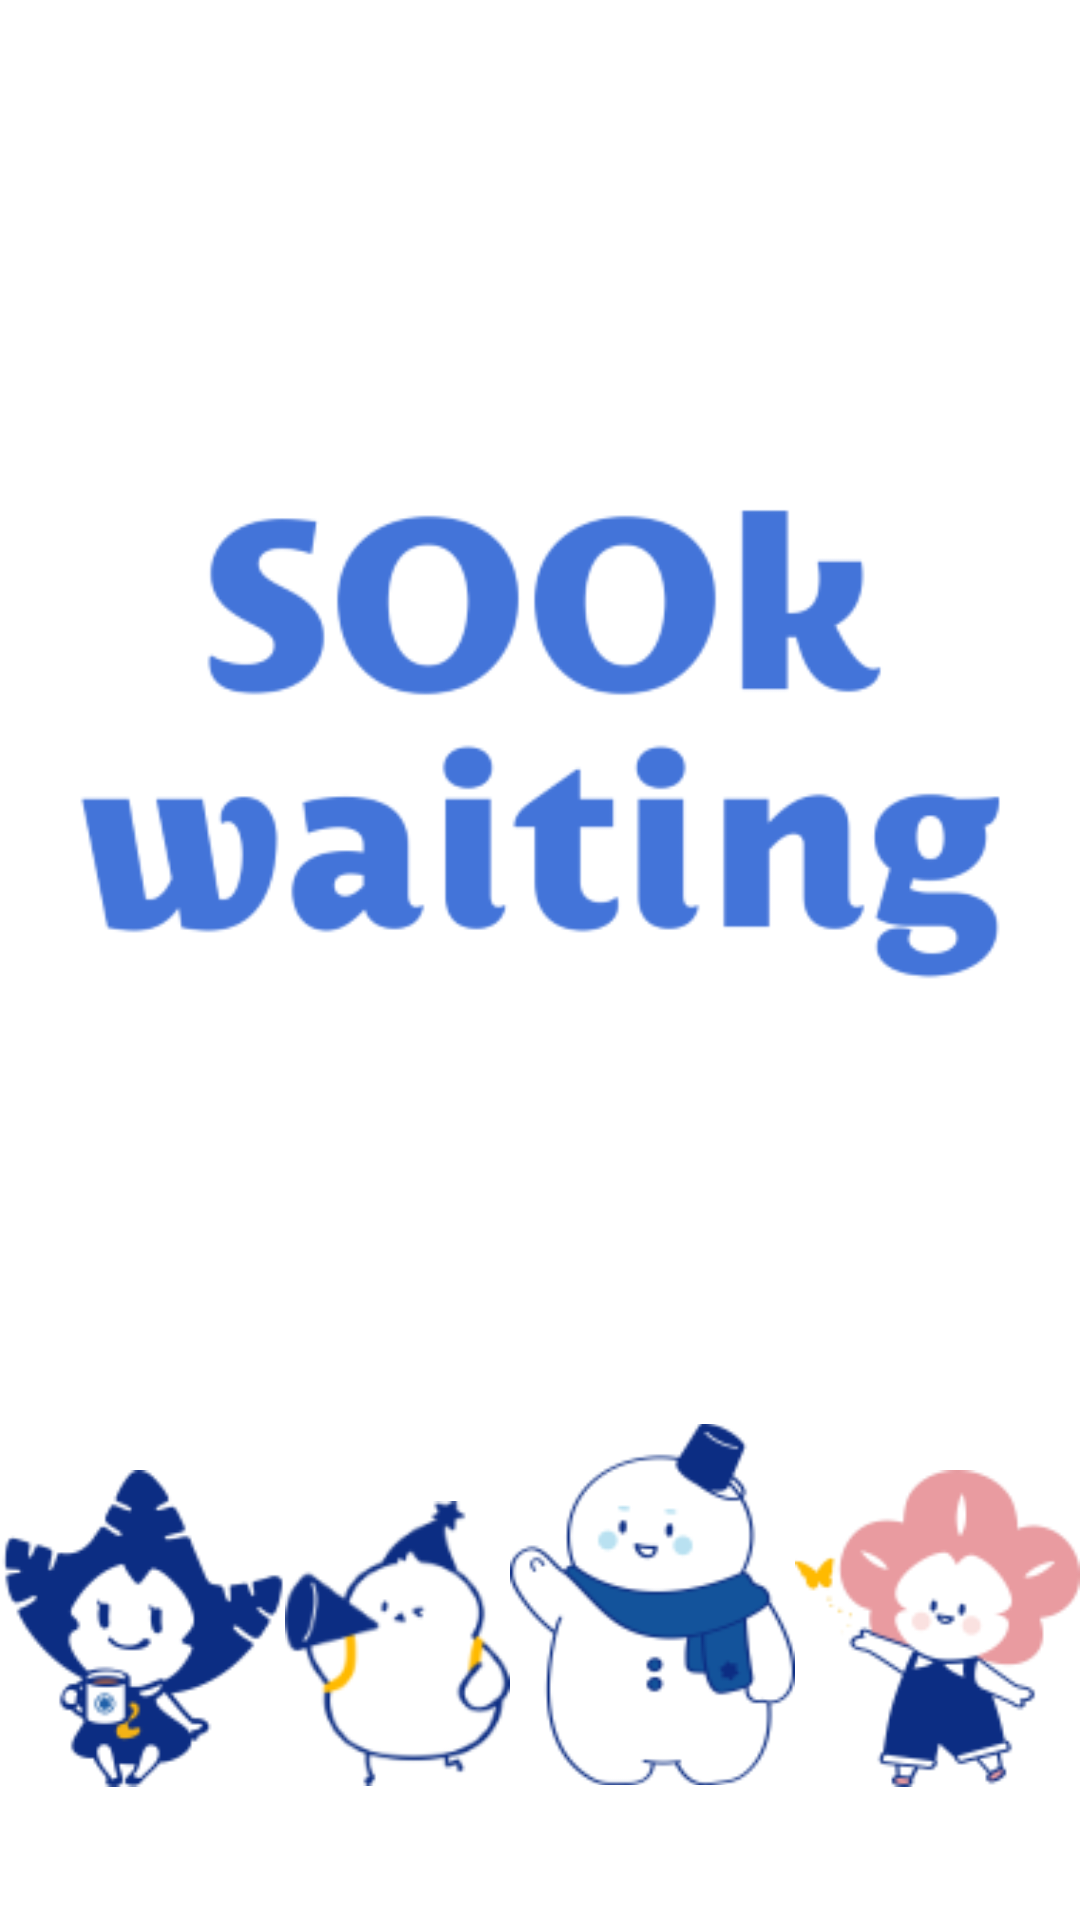

Screen size 1080x1920. Icon name, then its center in pixels as (x,y):
bird: (397,1643)
flower: (937,1628)
